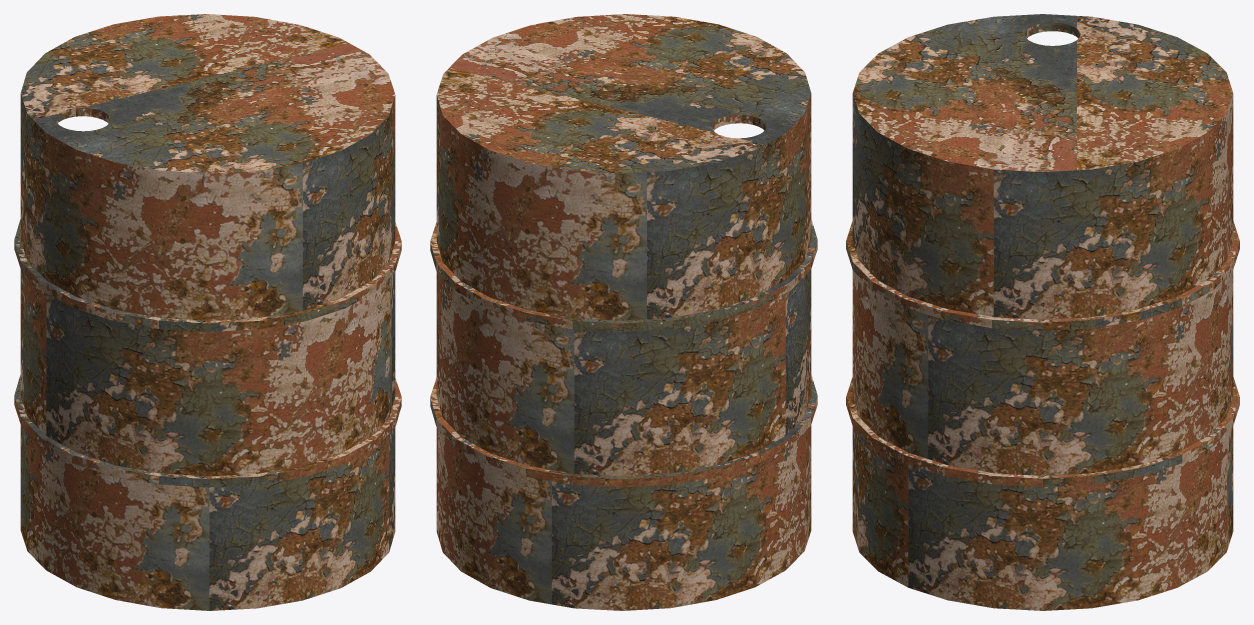
The model's file is barrel.glb.
3 views of the same model, side by side, from view 1: azimuth 30°, elevation 25°; view 2: azimuth 150°, elevation 25°; view 3: azimuth 270°, elevation 25° (orthographic).
Visible parts, largest first — view 1: prop; view 2: prop; view 3: prop.
Boxes of the visible parts, x1,y1,x2,y2 form: prop: (14,14,401,610); prop: (430,14,817,610); prop: (846,14,1239,610).
Bounding box in the file's own units: 0.7904 × 0.988 × 0.8034.
1 material, 1 textured.
